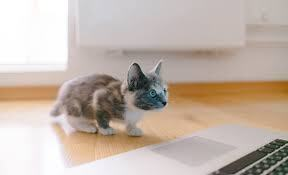cat: (46, 57, 166, 135)
